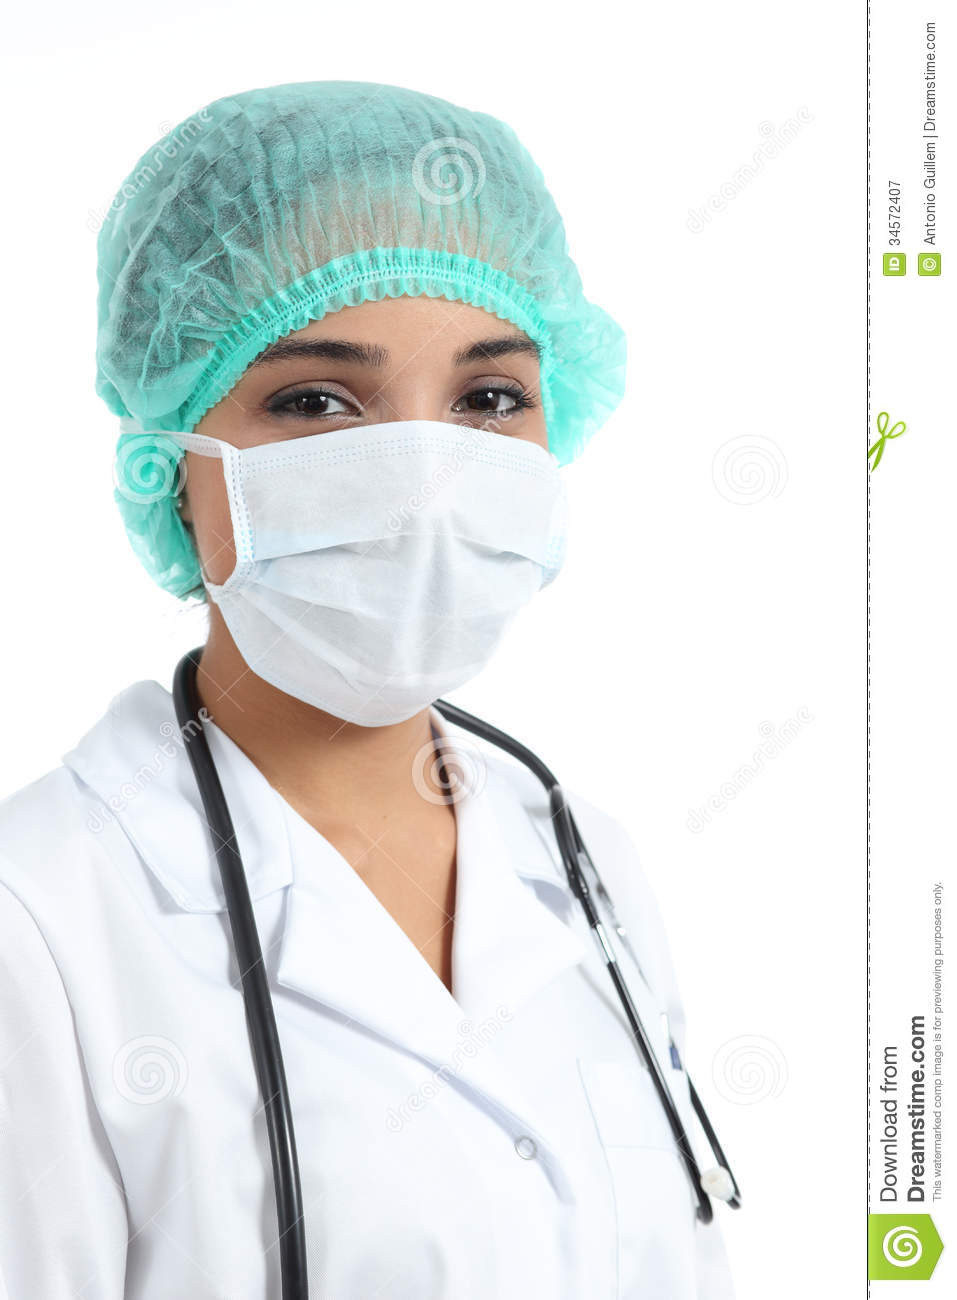mask: (202, 439, 584, 699)
